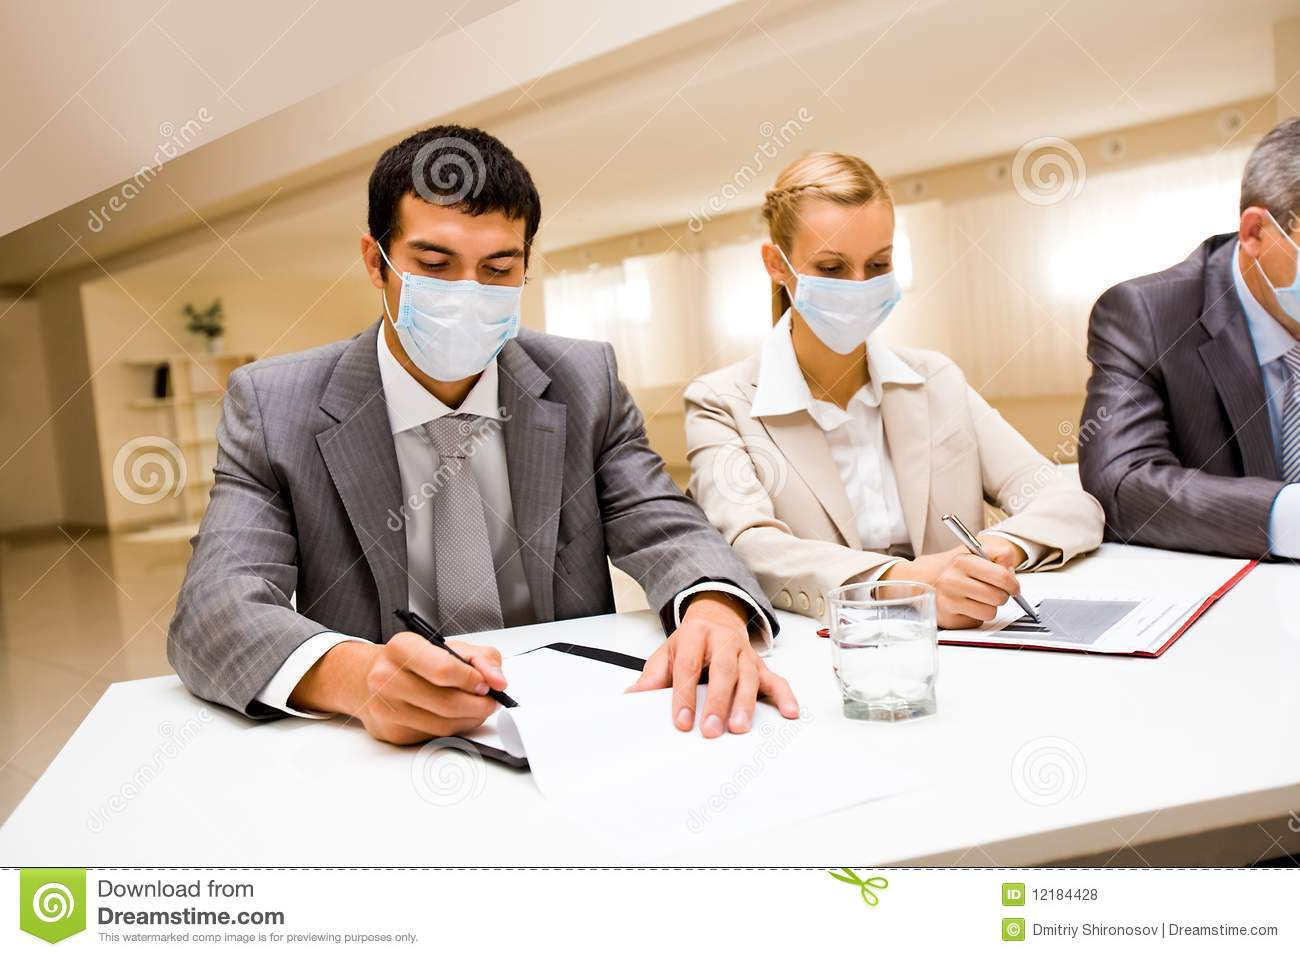mask: (383, 271, 548, 389), (797, 277, 911, 358)
